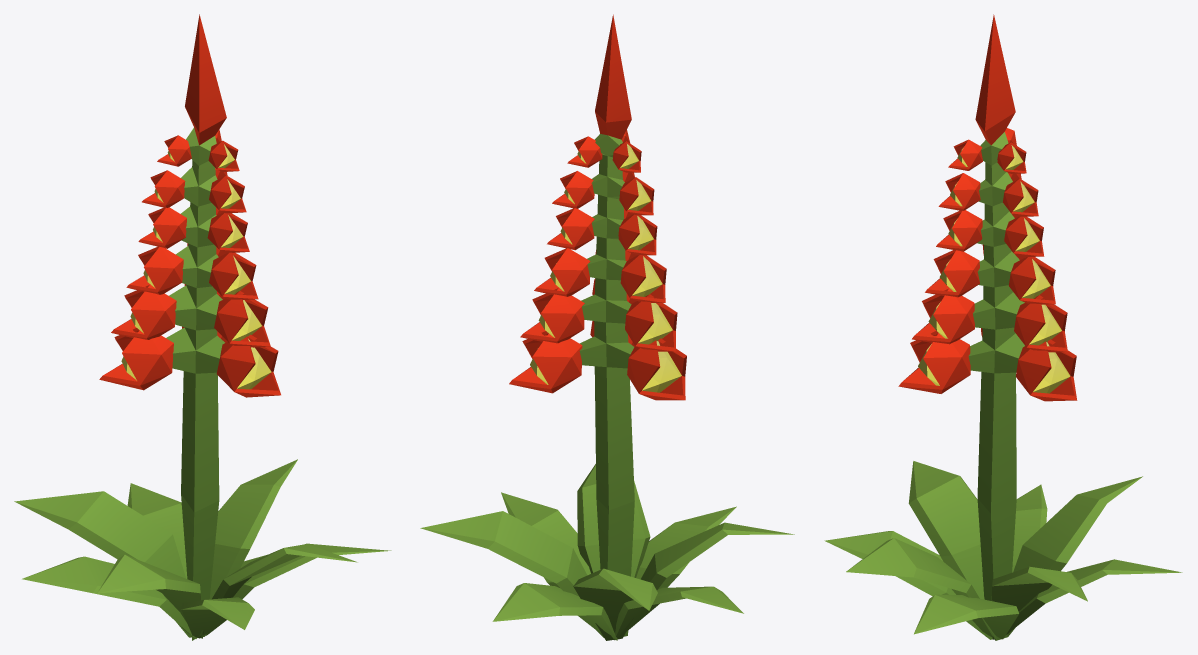
The model's file is Flower 3_Shiqi.glb.
3 renders of one model, left to right at view 1: azimuth 30°, elevation 25°; view 2: azimuth 150°, elevation 25°; view 3: azimuth 270°, elevation 25°, orthographic.
Parts seen in each view (by area): view 1: Flower_high_red; view 2: Flower_high_red; view 3: Flower_high_red.
Boxes of the visible parts, x1,y1,x2,y2 form: Flower_high_red: (14,14,391,640); Flower_high_red: (420,14,794,640); Flower_high_red: (824,14,1182,640).
Bounding box in the file's own units: 1.35 × 2.62 × 1.37.
1 material, 1 textured.
